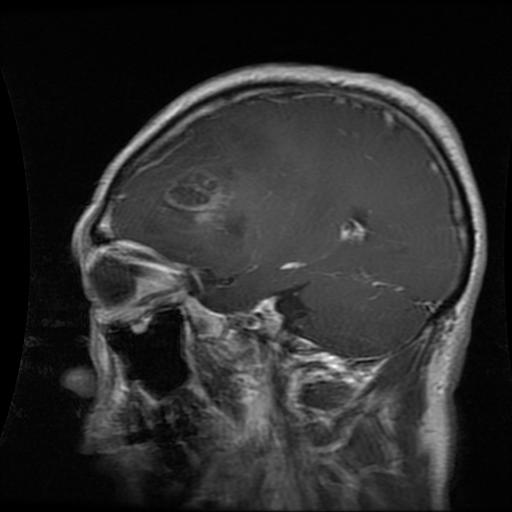Gliomia_tumour: (162, 165, 231, 224)
